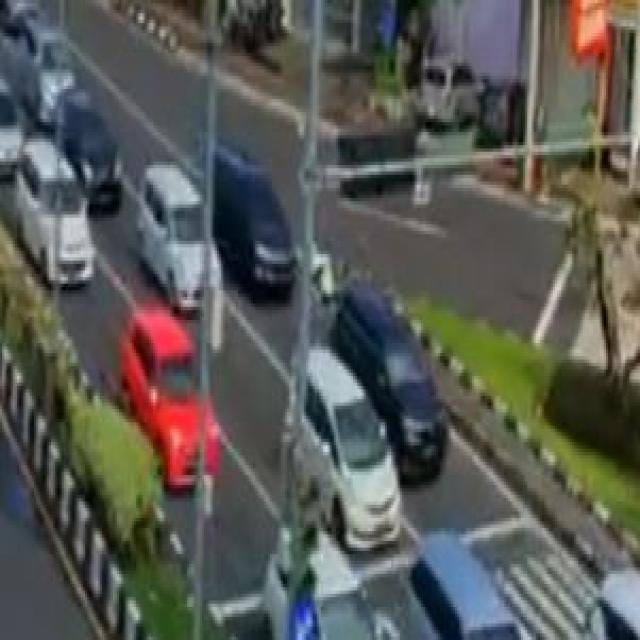car: (280, 338, 420, 559), (331, 287, 448, 487), (116, 314, 241, 474), (212, 127, 304, 312), (141, 162, 223, 320), (18, 145, 95, 294), (56, 96, 129, 211)
